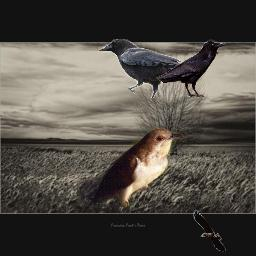Crow: (98, 39, 185, 98), (155, 39, 226, 97), (193, 210, 226, 253)
Cuckoo: (77, 128, 186, 208)
